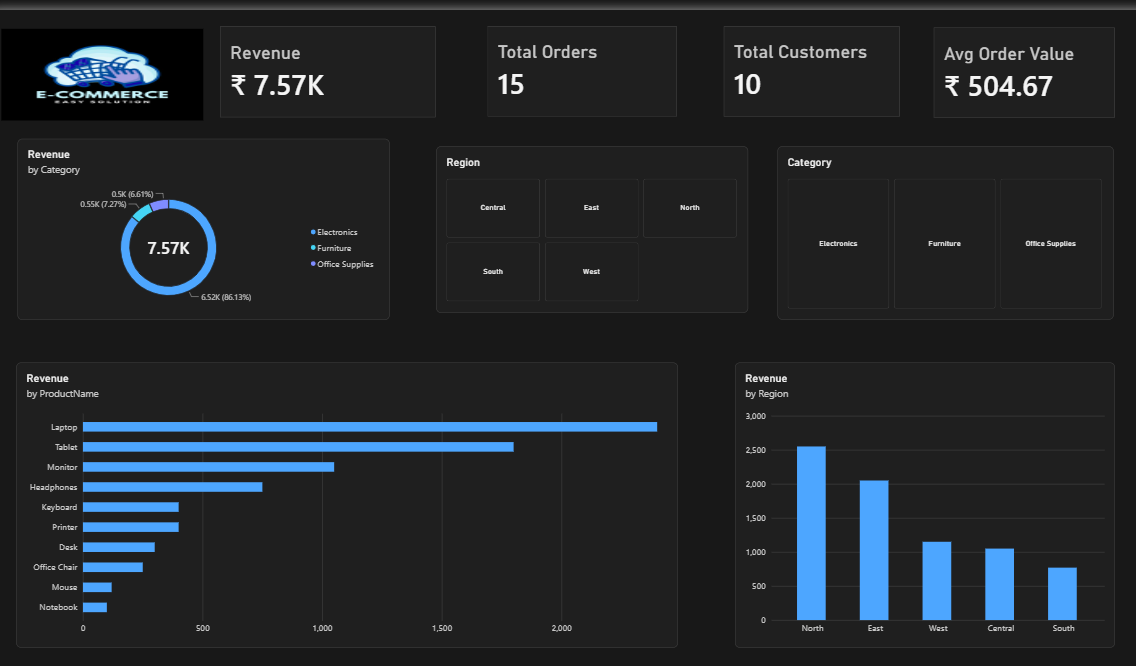

What the dashboard file says about the page in this screenshot:
{"tool":"powerbi","page":{"name":"Page 1","canvas":[1920,1080],"ordinal":0},"visuals":[{"type":"cardVisual","fields":{"Data":["Customers.Revenue"]},"box":[379.1,25.8,355.2,150.9],"z":0},{"type":"cardVisual","fields":{"Data":["Customers.Total Orders"]},"box":[819,27.6,312.9,149.1],"z":1000},{"type":"cardVisual","fields":{"Data":["Customers.Total Customers"]},"box":[1209.2,27.6,290.8,149.1],"z":2000},{"type":"cardVisual","fields":{"Data":["Customers.Avg Order Value"]},"box":[1553.4,29.4,298.2,149.1],"z":3000},{"type":"barChart","fields":{"Category":["Products.ProductName"],"Y":["Customers.Revenue"]},"box":[42.3,579.8,1089.6,469.3],"z":4000},{"type":"clusteredColumnChart","fields":{"Category":["Employees.Region"],"Y":["Customers.Revenue"]},"box":[1225.8,579.8,625.8,469.3],"z":5000},{"type":"donutChart","fields":{"Category":["Products.Category"],"Y":["Customers.Revenue"]},"box":[46,211.7,612.9,298.2],"z":6000},{"type":"advancedSlicerVisual","fields":{"Values":["Employees.Region"]},"box":[734.4,224.5,513.5,274.2],"z":7000},{"type":"advancedSlicerVisual","fields":{"Values":["Products.Category"]},"box":[1297.6,224.5,554,285.3],"z":7001},{"type":"image","box":[18.3,30,333,151],"z":7002}]}

Visuals, with their boxes on the page's 1920x1080 design canvas (x1, y1, x2, y2). These are canvas units, not pixel positions in the 1136x666 screenshot, which may show the page scaled, cropped or inside an application window:
cardVisual - Customers.Revenue: {"x1": 379, "y1": 26, "x2": 734, "y2": 177}
cardVisual - Customers.Total Orders: {"x1": 819, "y1": 28, "x2": 1132, "y2": 177}
cardVisual - Customers.Total Customers: {"x1": 1209, "y1": 28, "x2": 1500, "y2": 177}
cardVisual - Customers.Avg Order Value: {"x1": 1553, "y1": 29, "x2": 1852, "y2": 178}
barChart - Products.ProductName x Customers.Revenue: {"x1": 42, "y1": 580, "x2": 1132, "y2": 1049}
clusteredColumnChart - Employees.Region x Customers.Revenue: {"x1": 1226, "y1": 580, "x2": 1852, "y2": 1049}
donutChart - Products.Category x Customers.Revenue: {"x1": 46, "y1": 212, "x2": 659, "y2": 510}
advancedSlicerVisual - Employees.Region: {"x1": 734, "y1": 224, "x2": 1248, "y2": 499}
advancedSlicerVisual - Products.Category: {"x1": 1298, "y1": 224, "x2": 1852, "y2": 510}
image: {"x1": 18, "y1": 30, "x2": 351, "y2": 181}
